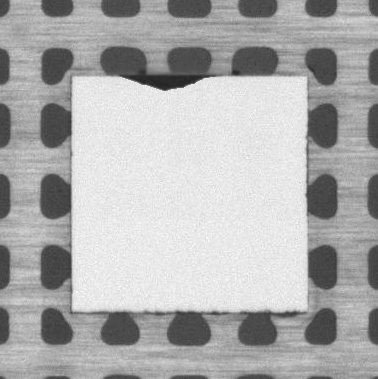DIE_BROKEN: (119, 70, 219, 91)
